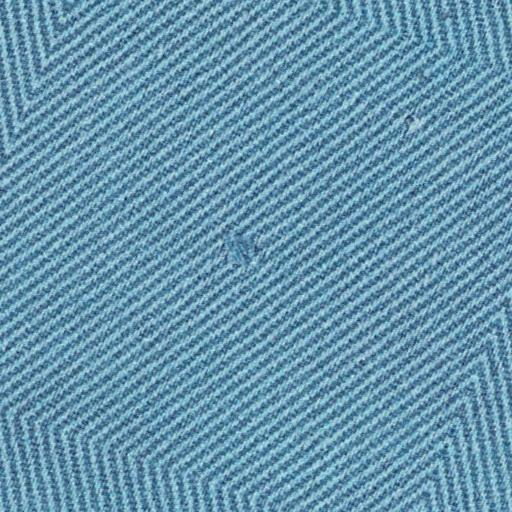knot: (214, 224, 272, 272)
